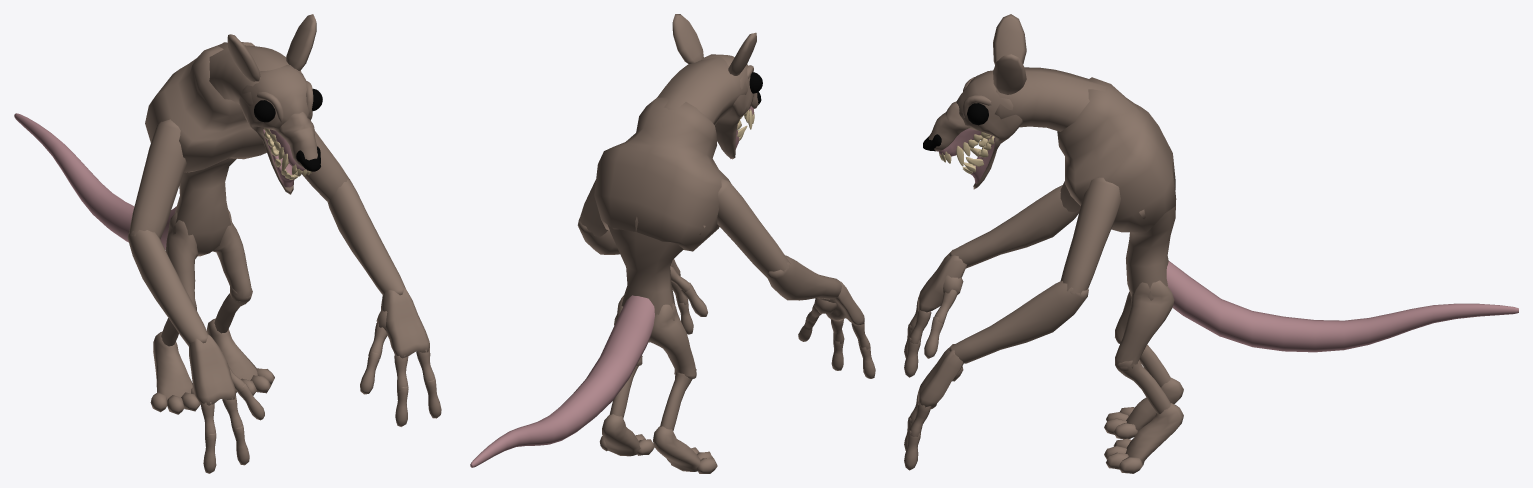
File: Asset_monsterrigging.fbx
3 renders of one model, left to right at view 1: azimuth 30°, elevation 25°; view 2: azimuth 150°, elevation 25°; view 3: azimuth 270°, elevation 25°, orthographic. The views are drawn at different scales.
Parts seen in each view (by area): view 1: Body4, Teeth, Gums, Eyes; view 2: Body4; view 3: Body4, Teeth, Gums.
Part boxes in pixels (<box>): Body4: <box>14,14,441,473</box>; Teeth: <box>264,128,311,179</box>; Gums: <box>263,129,307,187</box>; Eyes: <box>254,88,322,122</box>; Body4: <box>470,14,875,473</box>; Body4: <box>904,14,1518,473</box>; Teeth: <box>939,131,994,174</box>; Gums: <box>938,128,995,187</box>.
Size of the model in its own units: 126 by 212 by 285.
